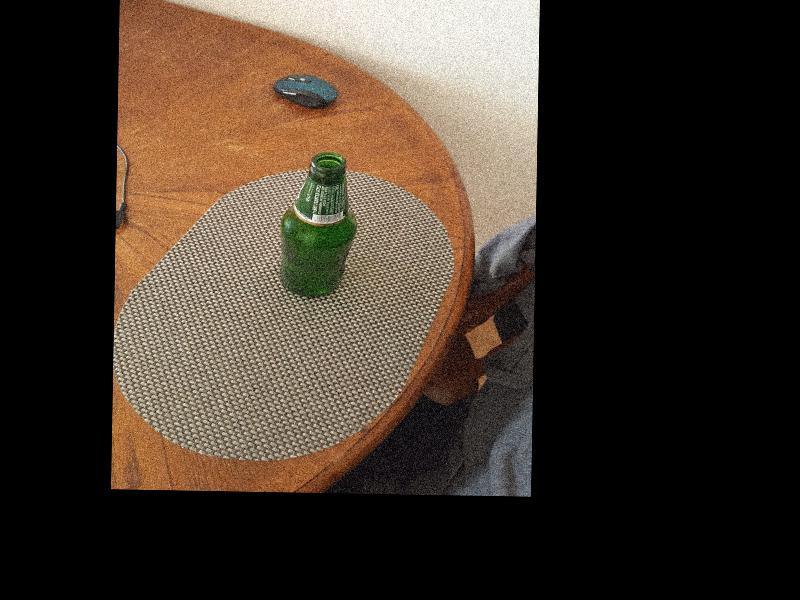Beer: (276, 150, 360, 297)
